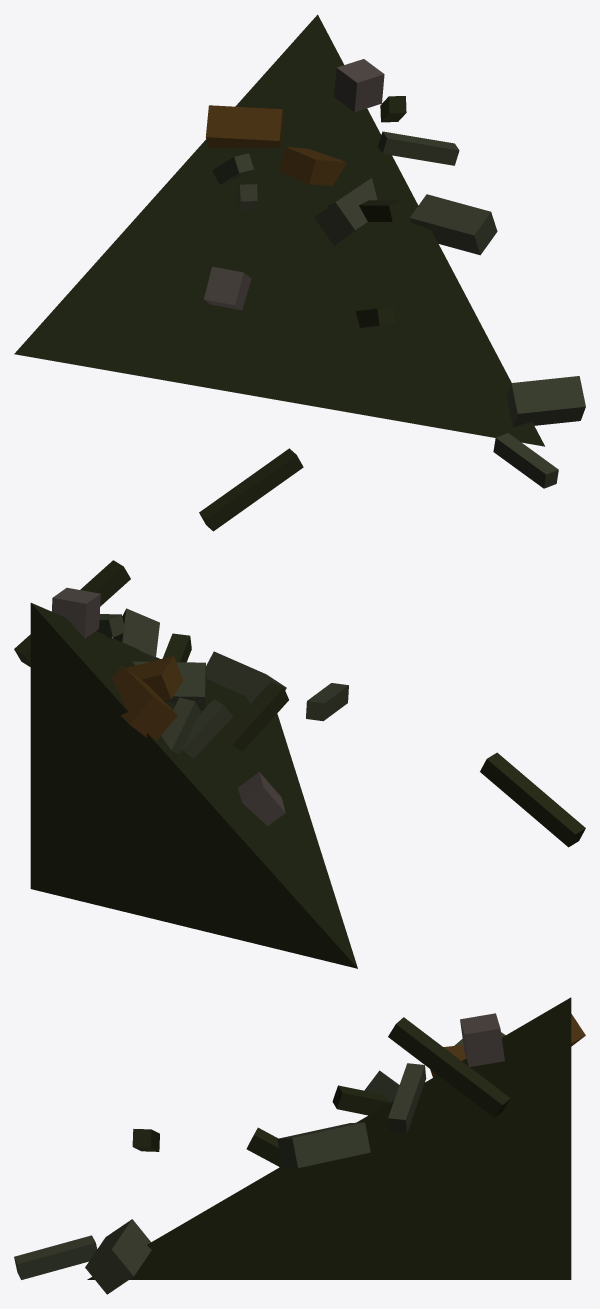
The model's file is SM_PilaZombi_RemateIzq_Altura4_s0_LOD1.fbx.
3 renders of one model, top to bottom at view 1: azimuth 30°, elevation 25°; view 2: azimuth 150°, elevation 25°; view 3: azimuth 270°, elevation 25°, orthographic. The views are drawn at different scales.
Parts seen in each view (by area): view 1: SM_pila_zombis_v3_LOD1; view 2: SM_pila_zombis_v3_LOD1; view 3: SM_pila_zombis_v3_LOD1.
Boxes of the visible parts, bbox=[...] form: SM_pila_zombis_v3_LOD1: bbox=[14, 14, 585, 531]; SM_pila_zombis_v3_LOD1: bbox=[14, 560, 585, 968]; SM_pila_zombis_v3_LOD1: bbox=[14, 997, 585, 1294].
Bounding box in the file's own units: 3.01 × 2.27 × 3.76.
